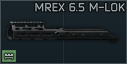FN SCAR Kinetic MREX 6.5 M-LOK rail: (0, 0, 127, 64)
